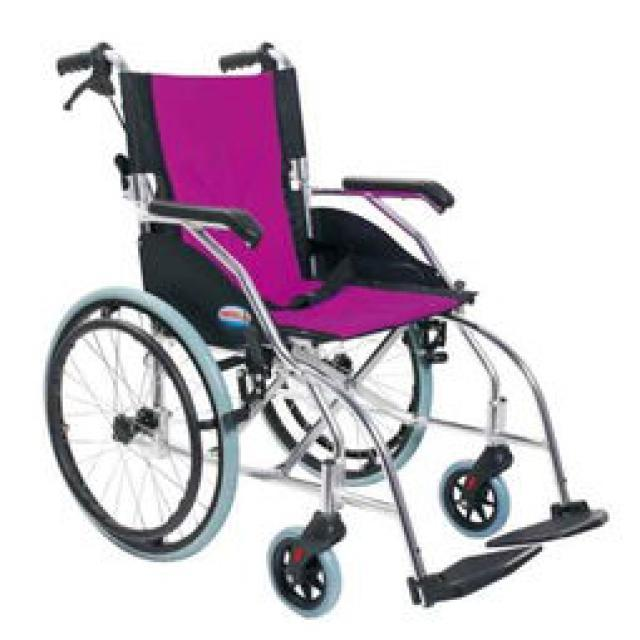wheelchair: (42, 40, 608, 625)
